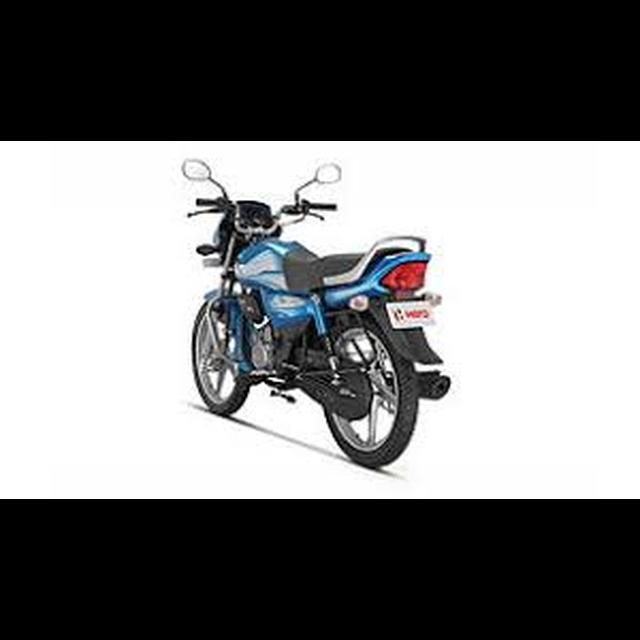motorcycle: (179, 155, 455, 474)
